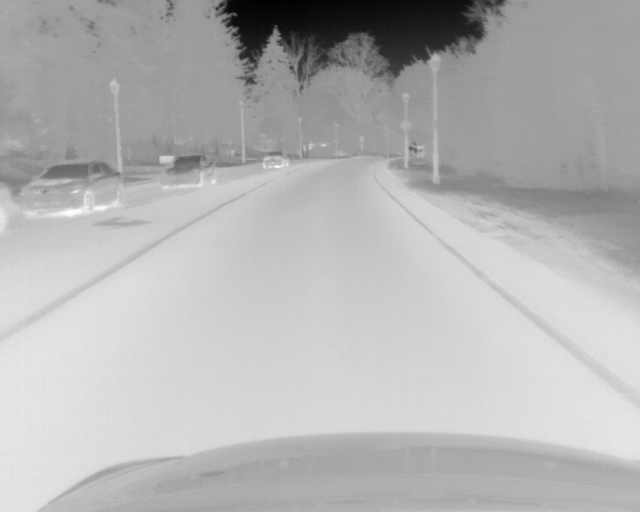car: (55, 159, 125, 213), (160, 154, 217, 189), (261, 150, 291, 170)
